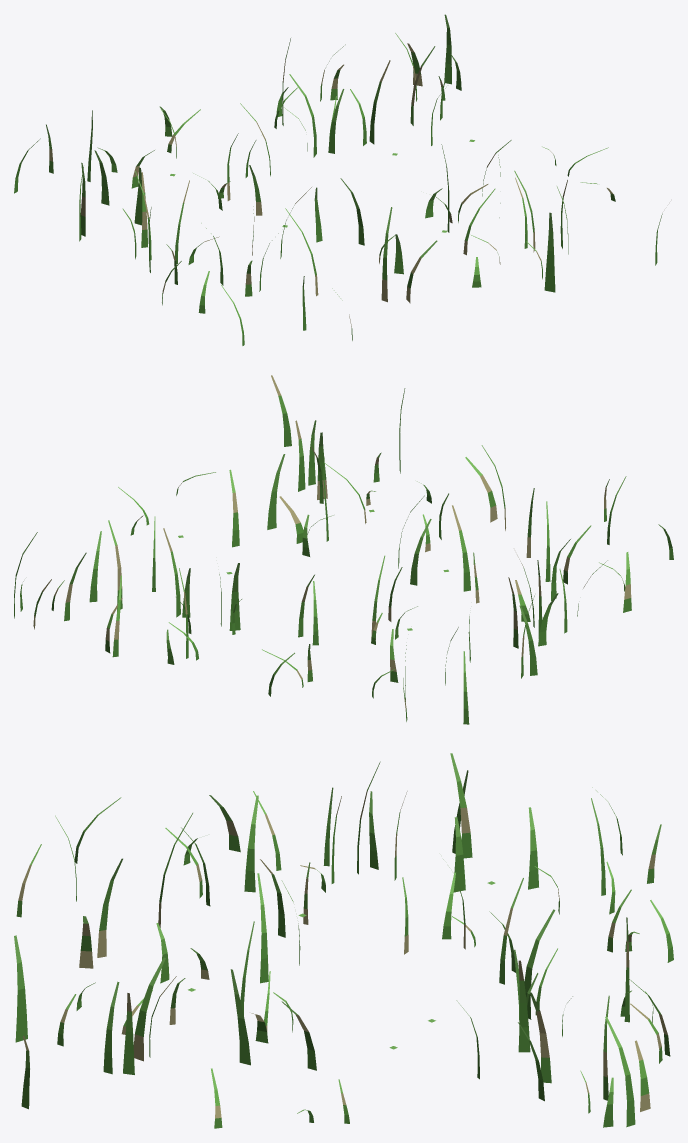
Rendered from grass_patch.glb.
3 views of the same model, one above another, from view 1: azimuth 30°, elevation 25°; view 2: azimuth 150°, elevation 25°; view 3: azimuth 270°, elevation 25° (orthographic). The views are drawn at different scales.
Visible parts, largest first — view 1: GrassPatch; view 2: GrassPatch; view 3: GrassPatch.
Part boxes in pixels (box(x1,y1,x2,y2)): GrassPatch: box(14, 14, 662, 345); GrassPatch: box(14, 375, 673, 724); GrassPatch: box(14, 753, 673, 1128).
Bounding box in the file's own units: 3.16 × 0.5481 × 2.99.
